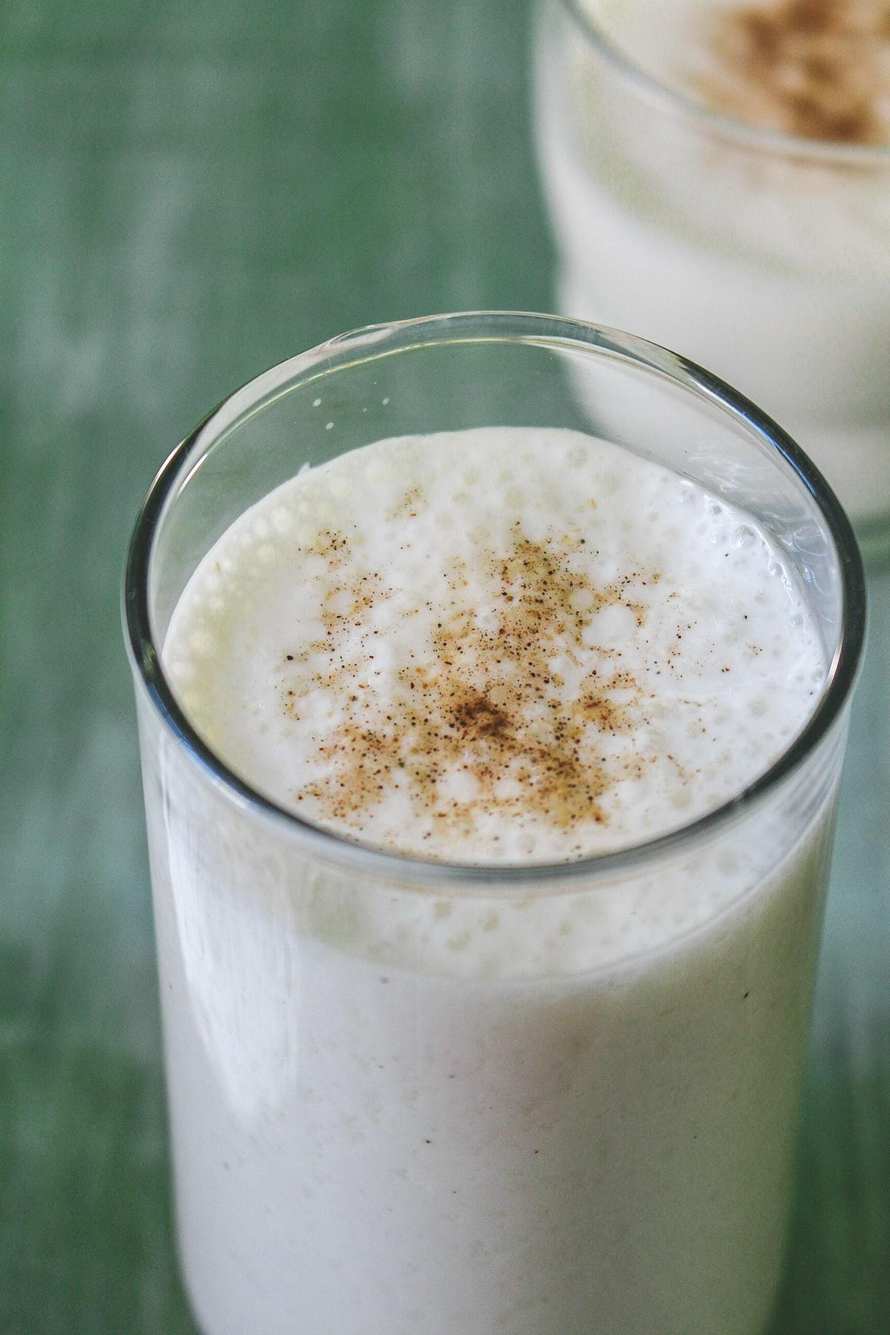Lassi: (142, 421, 843, 1335)
